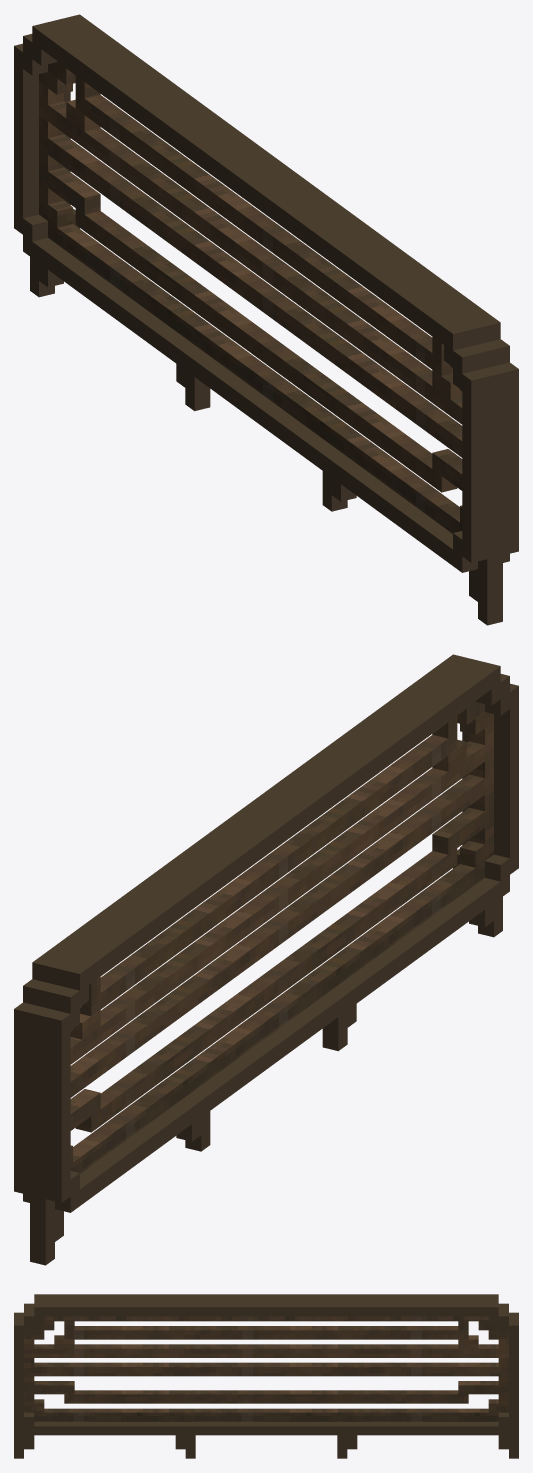
The model's file is CounterPartition.fbx.
3 views of the same model, one above another, from view 1: azimuth 30°, elevation 25°; view 2: azimuth 150°, elevation 25°; view 3: azimuth 270°, elevation 25° (orthographic). The views are drawn at different scales.
Parts seen in each view (by area): view 1: CountertopPartition; view 2: CountertopPartition; view 3: CountertopPartition.
Boxes of the visible parts, x1,y1,x2,y2 form: CountertopPartition: (14, 14, 518, 625); CountertopPartition: (14, 654, 518, 1265); CountertopPartition: (14, 1294, 518, 1458).
Size of the model in its own units: 3 by 17 by 50.
1 material, 1 textured.
